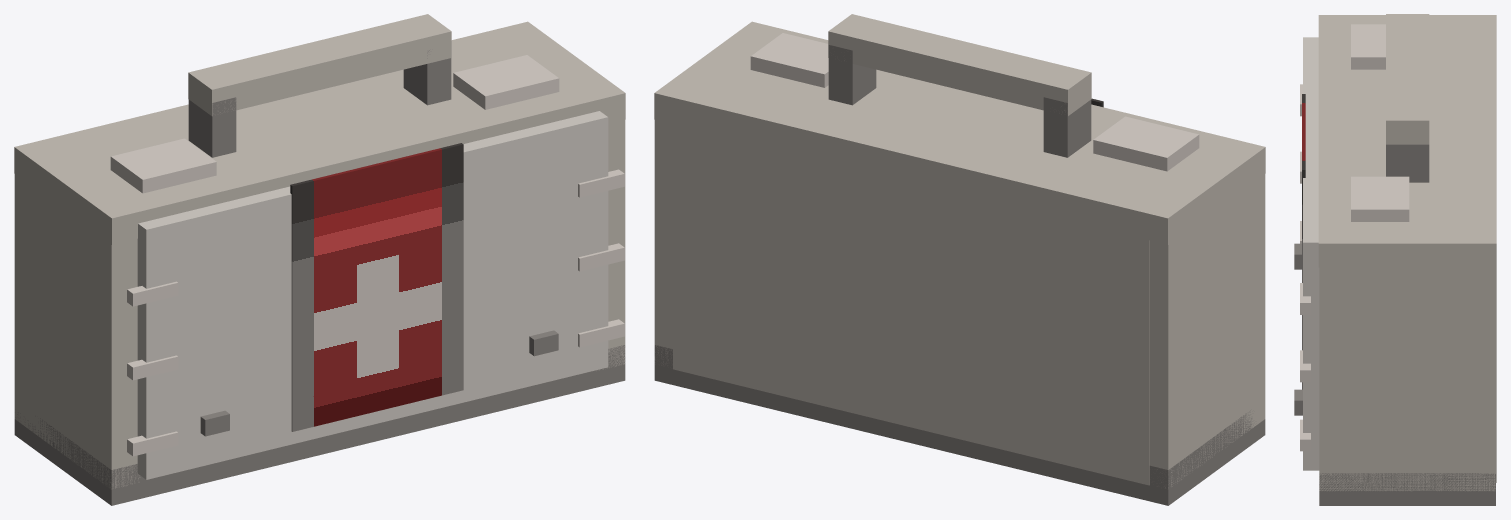
File: CMU3DCMAdvFirstAidKitMedicalSmallCloud.glb
The picture shows the model from 3 angles, left to right: view 1: azimuth 30°, elevation 25°; view 2: azimuth 150°, elevation 25°; view 3: azimuth 270°, elevation 25°; orthographic projection. The views are drawn at different scales.
Visible parts, largest first — view 1: closed front lid, original center kit marking, case top rail, left shell wall, case bottom, carry handle top bridge, top clasp 0.25, top clasp -0.25, right shell wall, left handle upright, right handle upright, left case molded rib 2 (+5 smaller); view 2: case rear shell, case top rail, left shell wall, case bottom, carry handle top bridge, right shell wall, top clasp -0.25, top clasp 0.25, left handle upright, right handle upright; view 3: right shell wall, case top rail, closed front lid, carry handle top bridge, case bottom, top clasp 0.25, top clasp -0.25, right handle upright, original center kit marking, right case molded rib 1, right case molded rib 0, right case molded rib 2 (+1 smaller).
Boxes of the visible parts, bbox=[...] form: closed front lid: bbox=[137, 111, 608, 479]; original center kit marking: bbox=[290, 143, 463, 431]; case top rail: bbox=[14, 21, 625, 244]; left shell wall: bbox=[14, 163, 140, 489]; case bottom: bbox=[14, 345, 625, 505]; carry handle top bridge: bbox=[188, 14, 451, 115]; top clasp 0.25: bbox=[453, 55, 559, 109]; top clasp -0.25: bbox=[110, 138, 216, 193]; right shell wall: bbox=[599, 120, 625, 370]; left handle upright: bbox=[188, 97, 236, 157]; right handle upright: bbox=[403, 50, 451, 105]; left case molded rib 2: bbox=[127, 281, 178, 306]; case rear shell: bbox=[673, 113, 1149, 485]; case top rail: bbox=[654, 21, 1265, 244]; left shell wall: bbox=[1149, 174, 1265, 488]; case bottom: bbox=[654, 345, 1265, 505]; carry handle top bridge: bbox=[828, 14, 1091, 115]; right shell wall: bbox=[654, 120, 672, 365]; top clasp -0.25: bbox=[1093, 116, 1199, 171]; top clasp 0.25: bbox=[750, 33, 828, 87]; left handle upright: bbox=[1043, 97, 1091, 157]; right handle upright: bbox=[828, 45, 876, 105]; right shell wall: bbox=[1319, 258, 1495, 491]; case top rail: bbox=[1318, 15, 1496, 267]; closed front lid: bbox=[1303, 37, 1319, 470]; carry handle top bridge: bbox=[1386, 14, 1429, 144]; case bottom: bbox=[1319, 473, 1495, 505]; top clasp 0.25: bbox=[1351, 176, 1409, 221]; top clasp -0.25: bbox=[1351, 24, 1385, 69]; right handle upright: bbox=[1386, 144, 1429, 182]; original center kit marking: bbox=[1302, 94, 1305, 389]; right case molded rib 1: bbox=[1300, 350, 1310, 382]; right case molded rib 0: bbox=[1300, 419, 1310, 451]; right case molded rib 2: bbox=[1300, 283, 1310, 314].
Size of the model in its own units: 0.75 by 0.4965 by 0.2805.
6 materials, 1 textured.
